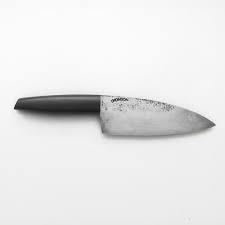Knife: (13, 93, 216, 136)
